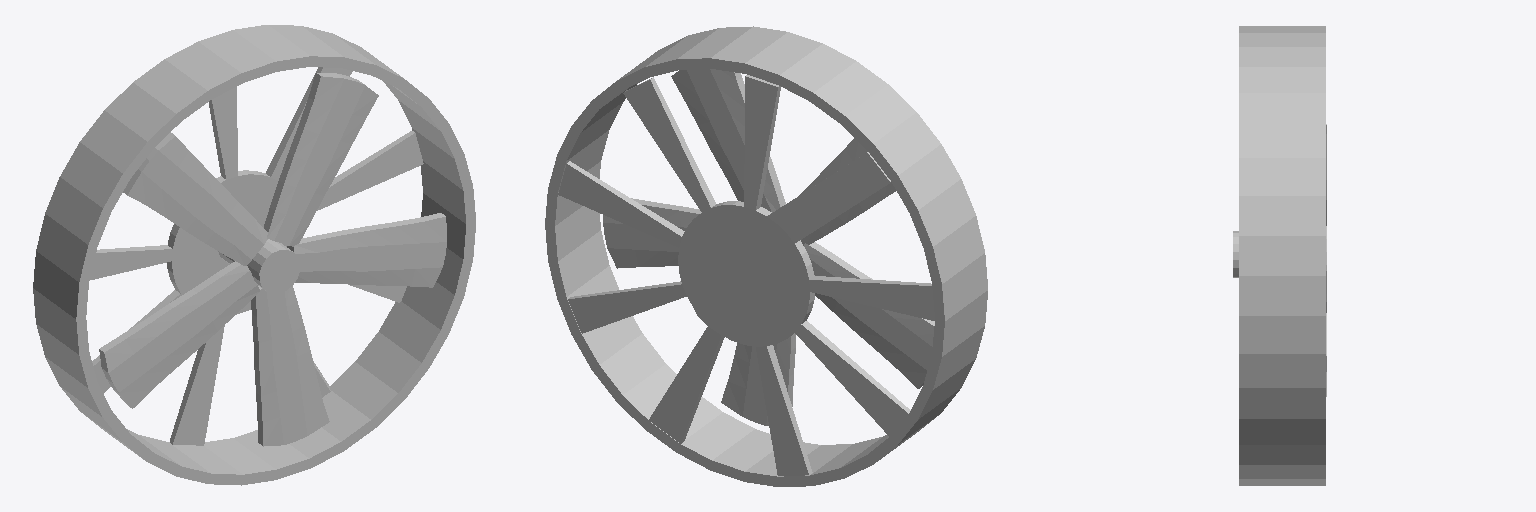
The model's file is Fan.obj.
3 views of the same model, side by side, from view 1: azimuth 30°, elevation 25°; view 2: azimuth 150°, elevation 25°; view 3: azimuth 270°, elevation 25° (orthographic).
Visible parts, largest first — view 1: Tube001; view 2: Tube001; view 3: Tube001.
Boxes of the visible parts, box(x1,y1,x2,y2) form: Tube001: box(33, 25, 475, 485); Tube001: box(545, 26, 987, 486); Tube001: box(1233, 26, 1326, 485).
Size of the model in its own units: 2.86 by 2.86 by 0.587.